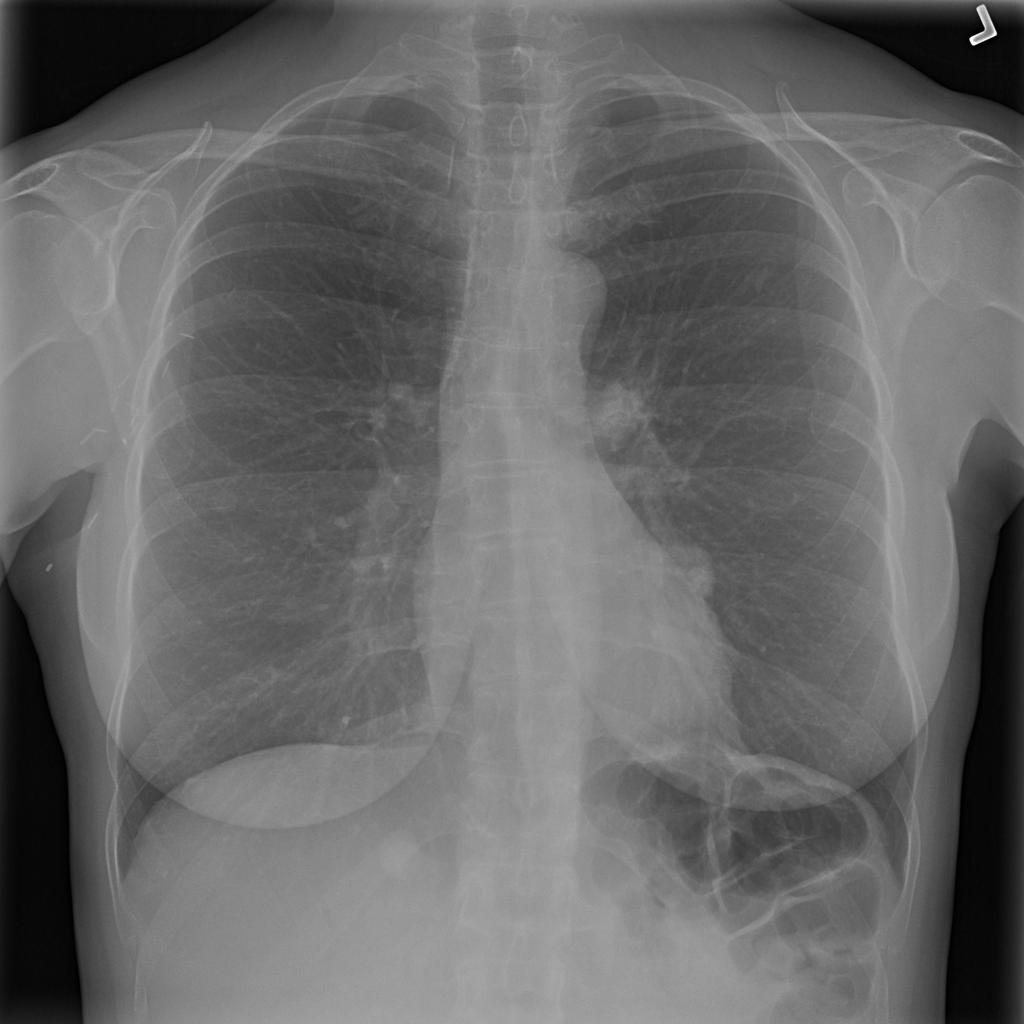nodule: (365, 817, 438, 894), (664, 542, 735, 614), (197, 477, 253, 522)
